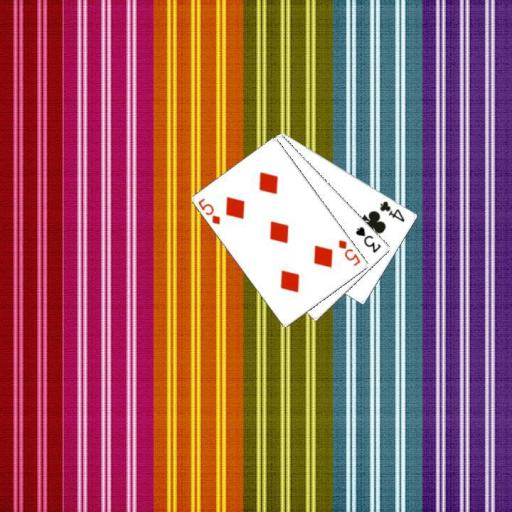3S: (353, 223, 383, 255)
4C: (377, 198, 407, 223)
5D: (195, 195, 222, 226), (336, 237, 362, 267)
